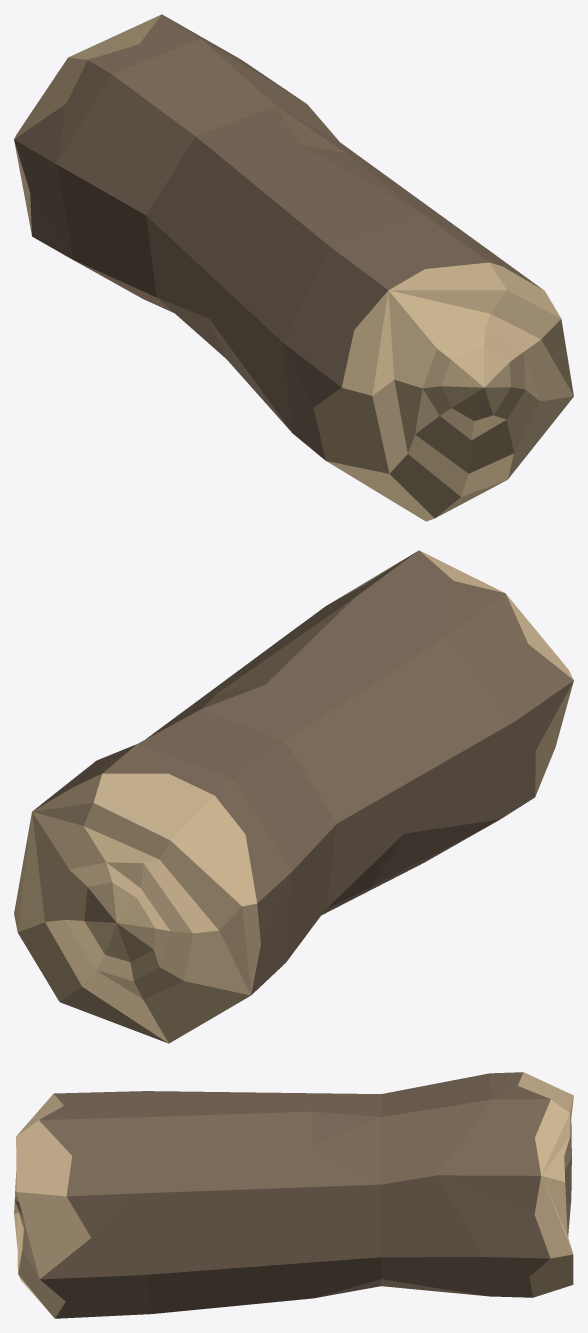
Rendered from Log.FBX.
3 renders of one model, top to bottom at view 1: azimuth 30°, elevation 25°; view 2: azimuth 150°, elevation 25°; view 3: azimuth 270°, elevation 25°, orthographic. The views are drawn at different scales.
Parts seen in each view (by area): view 1: SM_Prop_Log_Spike_01; view 2: SM_Prop_Log_Spike_01; view 3: SM_Prop_Log_Spike_01.
Part boxes in pixels (left/top/right/bottom): SM_Prop_Log_Spike_01: left=14, top=14, right=573, bottom=521; SM_Prop_Log_Spike_01: left=14, top=550, right=573, bottom=1043; SM_Prop_Log_Spike_01: left=14, top=1072, right=573, bottom=1318.
Bounding box in the file's own units: 0.4431 × 0.4578 × 1.08.
